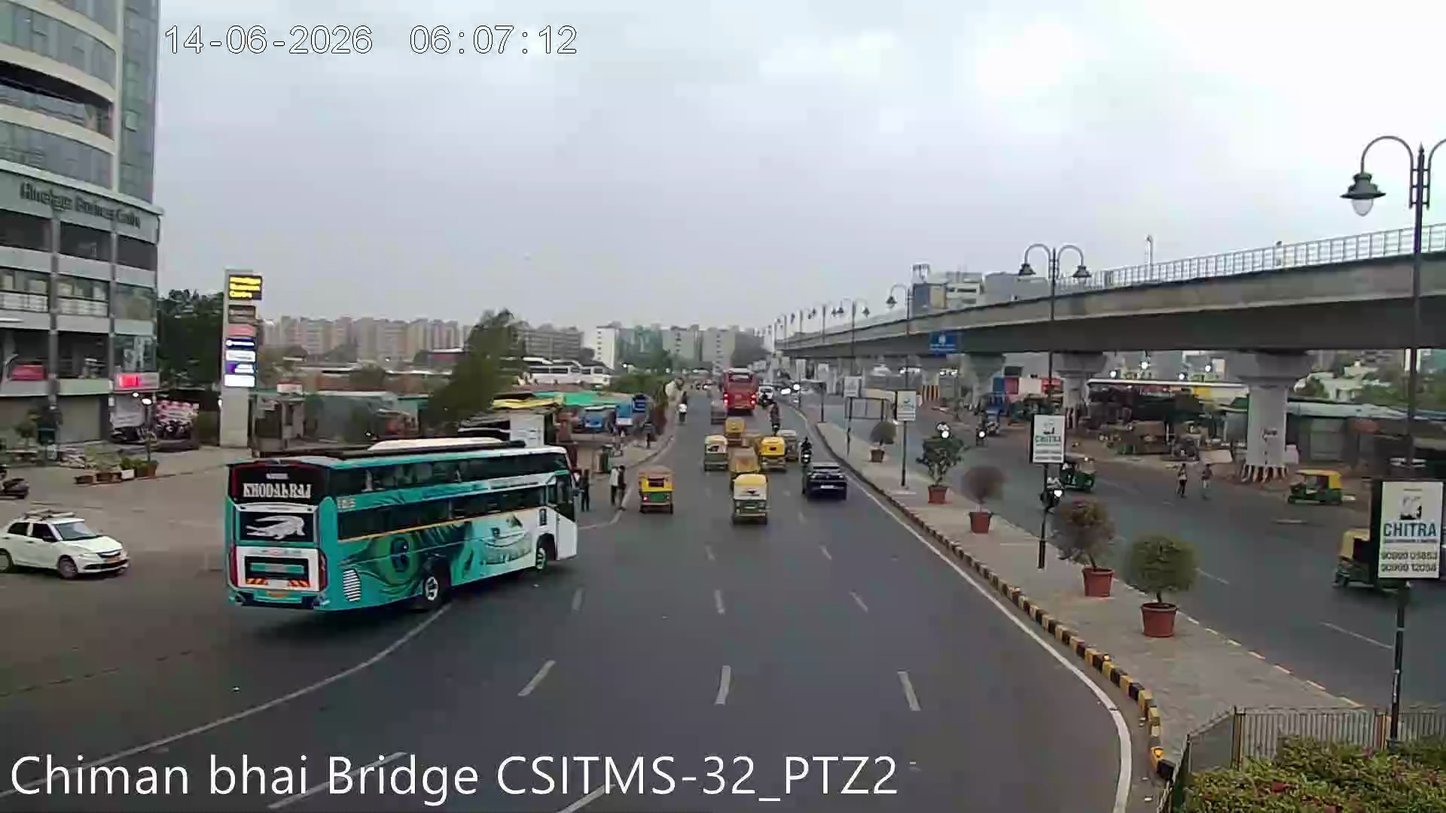auto_rickshaw: (1288, 462, 1347, 506), (728, 466, 771, 525), (637, 467, 677, 514), (1059, 450, 1100, 495), (755, 433, 792, 470)
bus: (209, 442, 596, 600), (720, 365, 758, 411)
car: (0, 500, 130, 584), (800, 459, 849, 501)
pedestrian: (608, 462, 627, 516), (1198, 459, 1215, 503), (1173, 459, 1190, 502)
truck: (1330, 498, 1446, 595)
two_wheeler: (1037, 467, 1062, 514)
